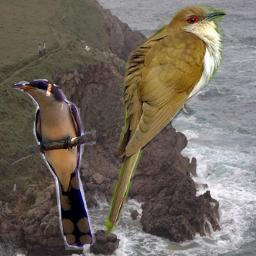Cuckoo: (103, 5, 228, 236), (11, 79, 96, 250)
